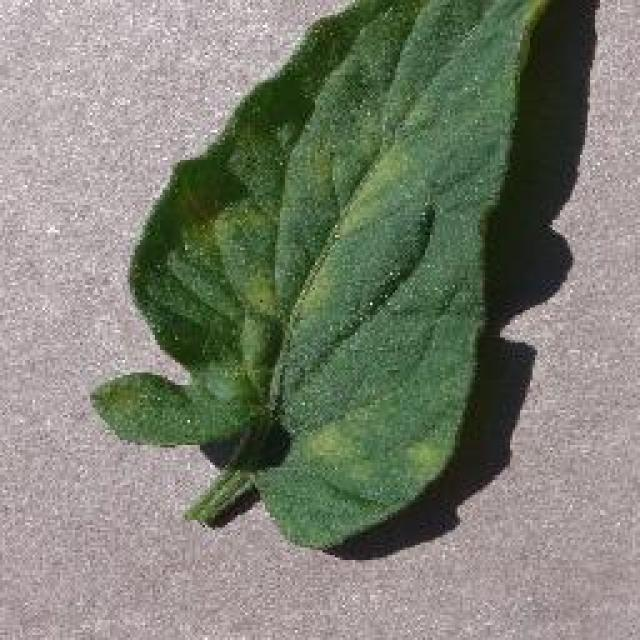Tomato mold leaf: (96, 0, 554, 548)
